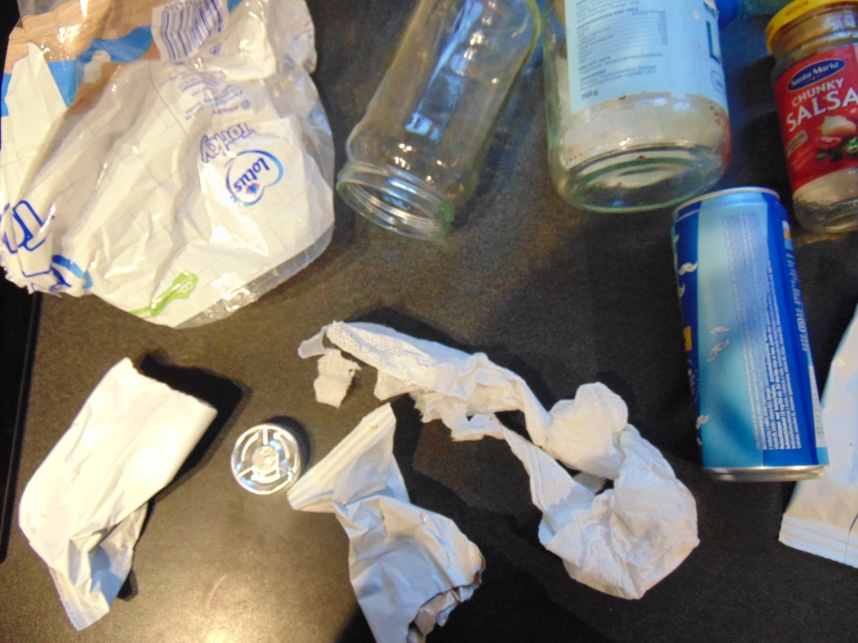glass_bottle: (333, 1, 543, 241), (540, 1, 732, 214), (767, 1, 856, 234)
metal: (230, 421, 300, 499)
metal_can: (670, 187, 829, 484)
